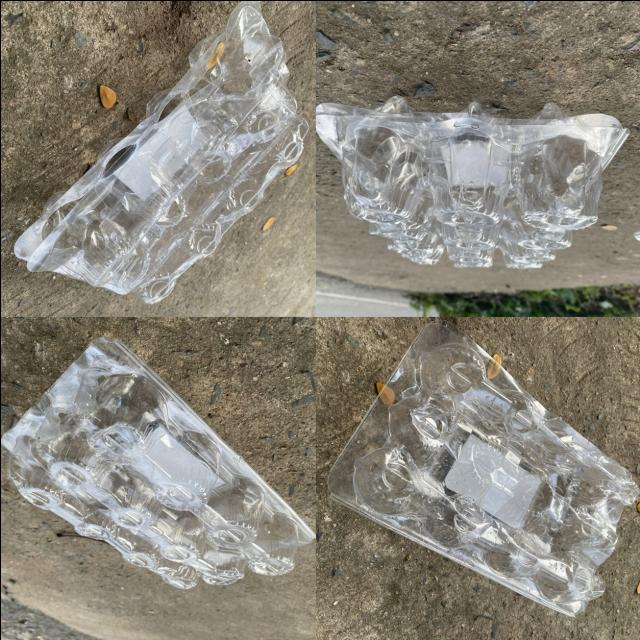plastik: (326, 320, 636, 614), (14, 0, 307, 302), (0, 338, 312, 586), (315, 95, 627, 267)
